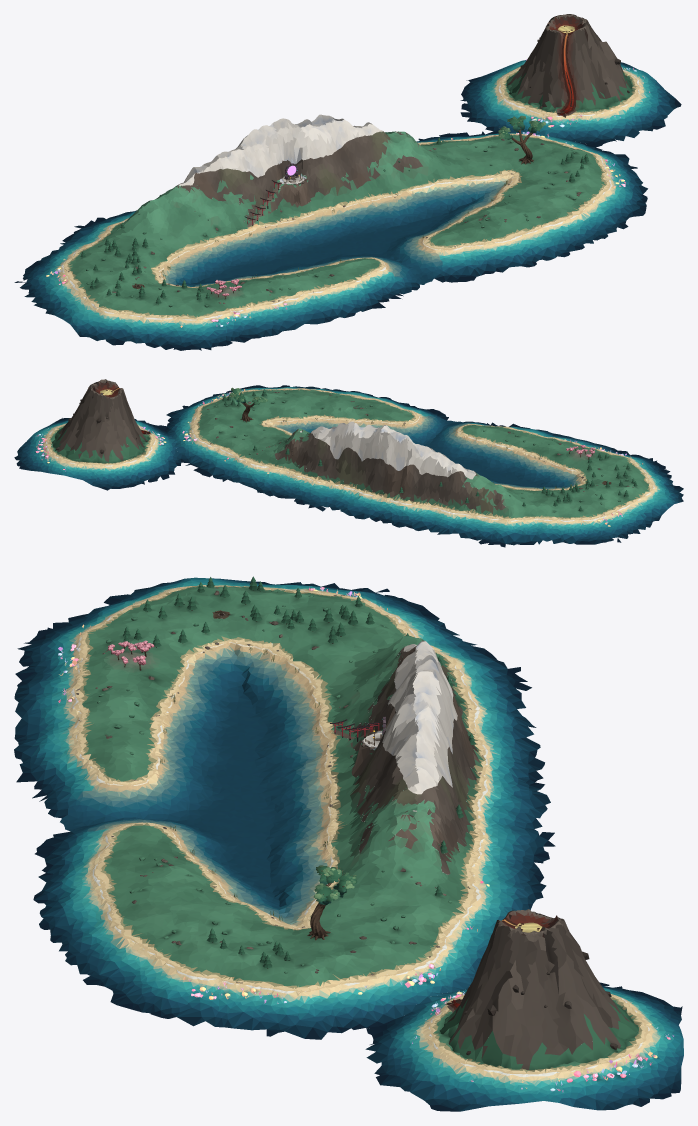
The model's file is island.glb.
3 views of the same model, one above another, from view 1: azimuth 30°, elevation 25°; view 2: azimuth 150°, elevation 25°; view 3: azimuth 270°, elevation 25° (orthographic). The views are drawn at different scales.
Parts seen in each view (by area): view 1: Island, VolcanoIsland, Volcano, Lava, Corals, SkillTreeCanopy; view 2: Island, VolcanoIsland, Volcano, Corals; view 3: Island, VolcanoIsland, Volcano, Corals, SkillTreeCanopy.
Boxes of the visible parts, box(x1,y1,x2,y2) form: Island: box(14, 114, 647, 350); VolcanoIsland: box(460, 60, 681, 147); Volcano: box(506, 14, 632, 111); Lava: box(557, 25, 576, 117); Corals: box(46, 59, 649, 327); SkillTreeCanopy: box(498, 115, 545, 139); Island: box(160, 385, 683, 547); VolcanoIsland: box(14, 418, 181, 490); Volcano: box(52, 379, 148, 463); Corals: box(35, 389, 642, 526); Island: box(14, 576, 555, 1039); VolcanoIsland: box(365, 982, 683, 1111); Volcano: box(439, 909, 638, 1069); Corals: box(58, 587, 673, 1092); SkillTreeCanopy: box(314, 865, 357, 905).
Bounding box in the file's own units: 490 × 57.94 × 262.
18 materials, 1 textured.
